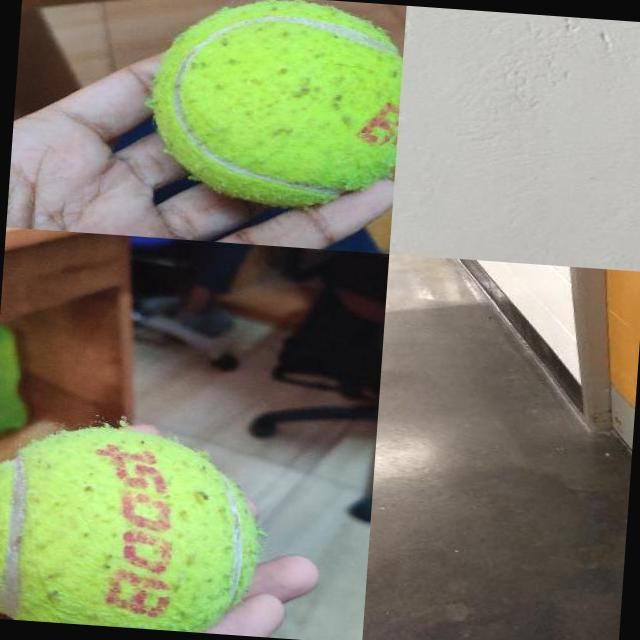Tennis Ball: (0, 419, 264, 635), (139, 0, 404, 215)
